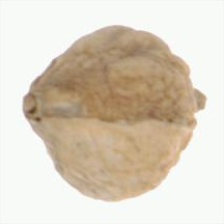L1: (186, 65, 207, 150), (22, 78, 49, 143)
L2: (22, 24, 206, 202)
